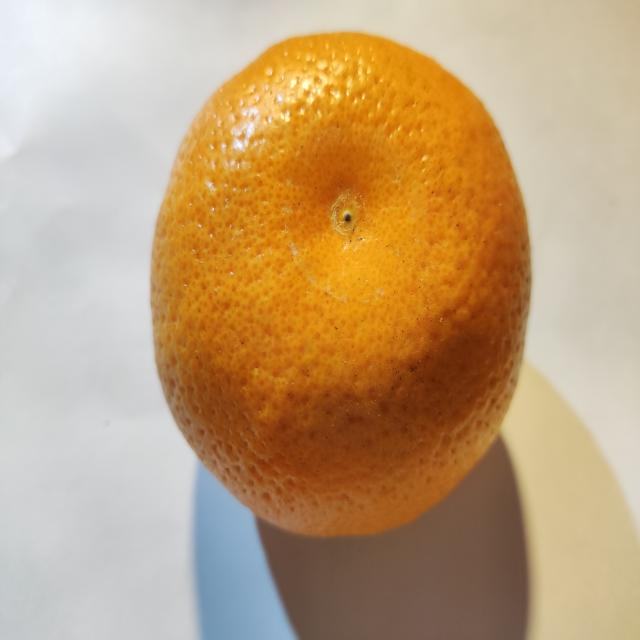orange: (152, 34, 530, 535)
